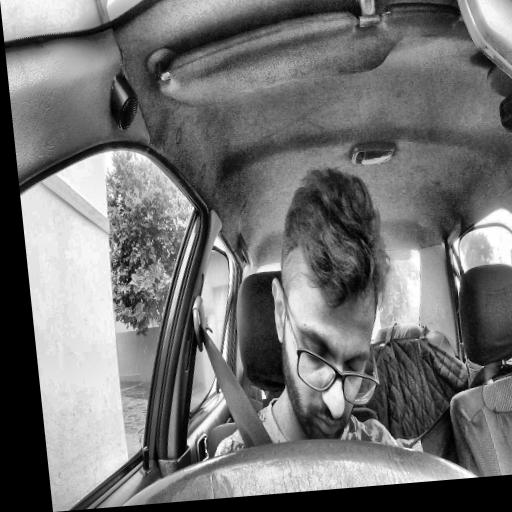drowsy: (259, 164, 410, 452)
